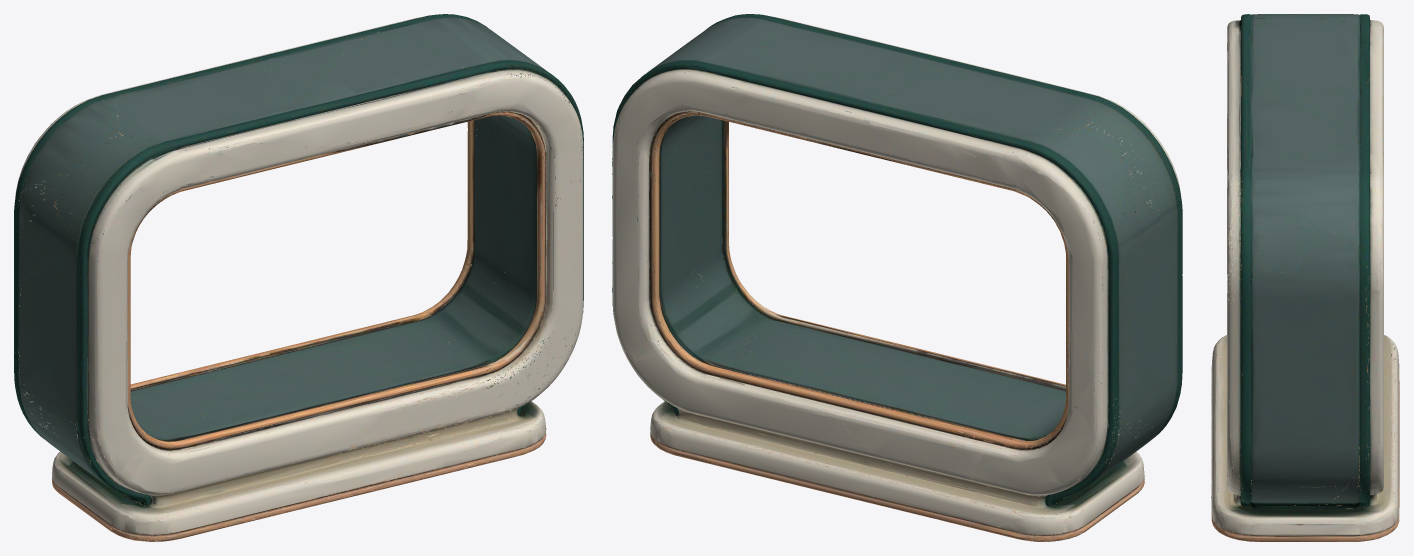
File: handoff-01-customer-mockup-frame.glb
The picture shows the model from 3 angles, left to right: view 1: azimuth 30°, elevation 25°; view 2: azimuth 150°, elevation 25°; view 3: azimuth 270°, elevation 25°; orthographic projection. The views are drawn at different scales.
Parts seen in each view (by area): view 1: handoff-frame; view 2: handoff-frame; view 3: handoff-frame.
Part boxes in pixels (x1=…): handoff-frame: x1=14, y1=14, x2=583, y2=541; handoff-frame: x1=612, y1=14, x2=1182, y2=541; handoff-frame: x1=1211, y1=14, x2=1399, y2=541.
Bounding box in the file's own units: 2 × 1.45 × 0.703.
1 material, 1 textured.
